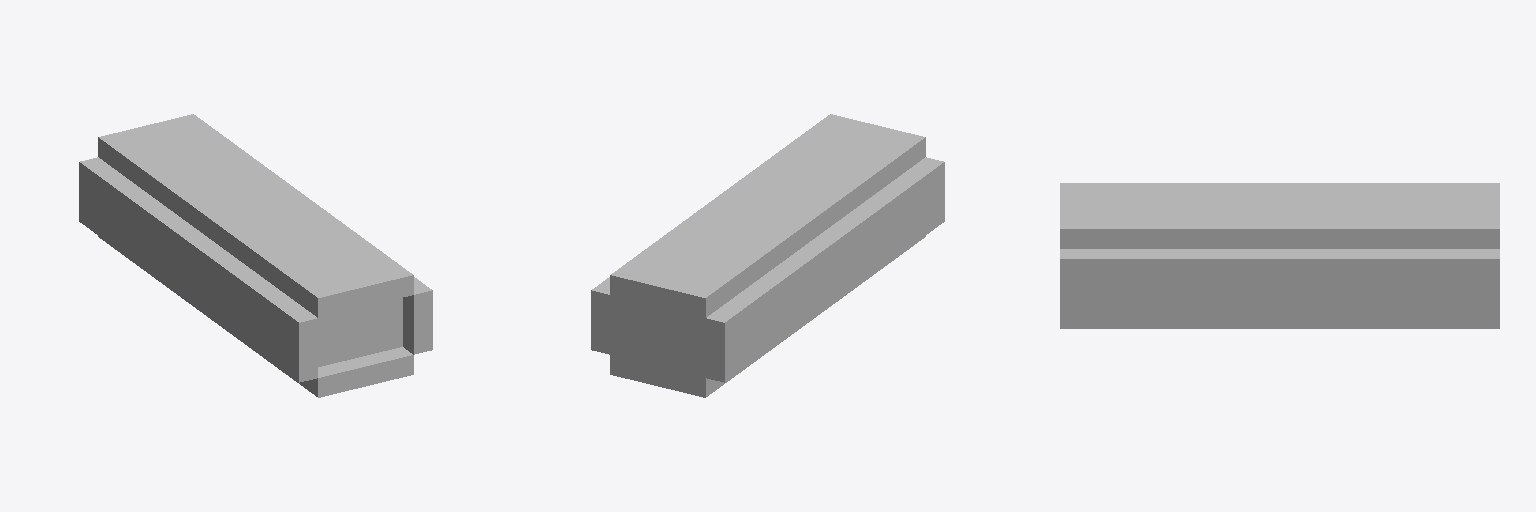
The model's file is hammer.obj.
3 views of the same model, side by side, from view 1: azimuth 30°, elevation 25°; view 2: azimuth 150°, elevation 25°; view 3: azimuth 270°, elevation 25° (orthographic).
Size of the model in its own units: 7 by 5 by 20.